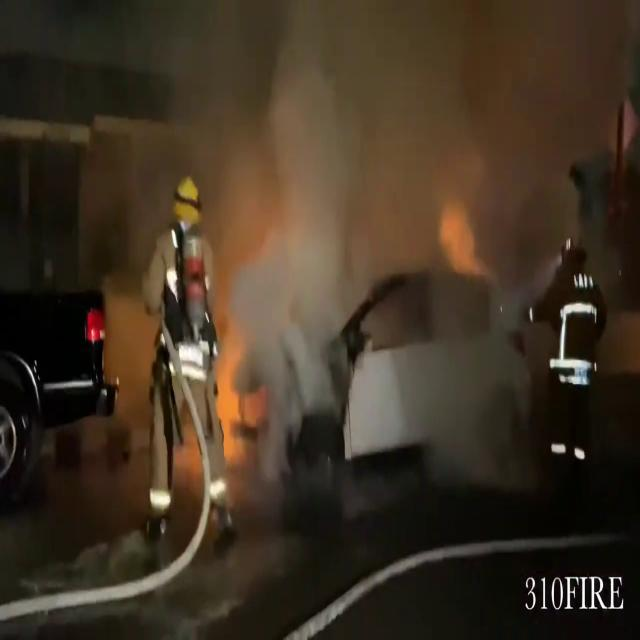Smoke: (111, 0, 624, 433)
